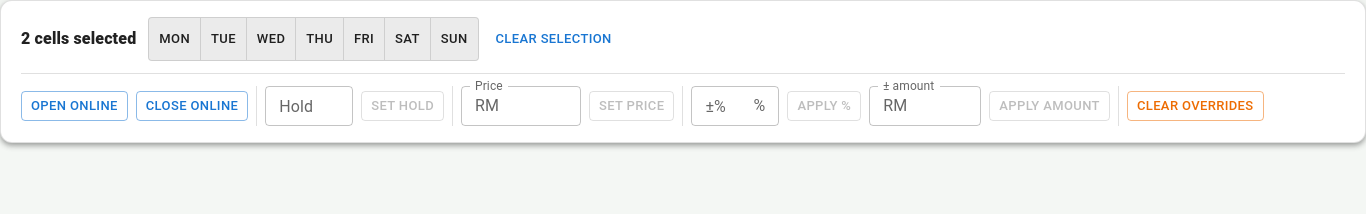
Test: BulkEditPanel › reports skipped cells when an adjustment goes non-positive
This screenshot has width=1366, height=214.
Type "-150" into the number field named "adjust by percent".
click(718, 106); type("-150")  # box top-left (691, 86), bottom-right (746, 126)
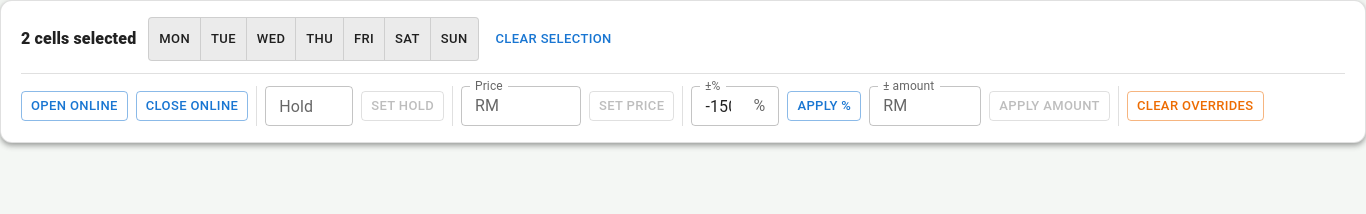
Click the button "Apply %".
click(824, 106)  # box top-left (787, 91), bottom-right (861, 121)
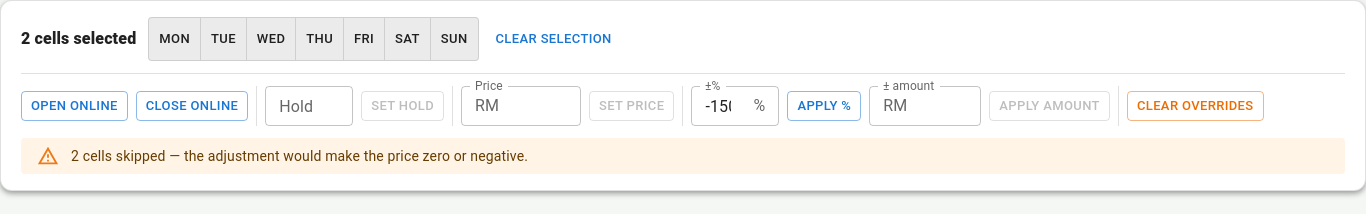
Expected: the text "2 cells skipped" is shown, top-left (71, 148), bottom-right (528, 164)
